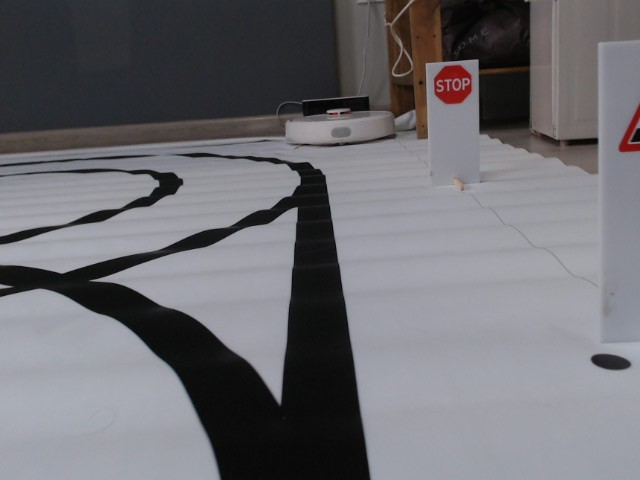Stop: (432, 64, 473, 106)
